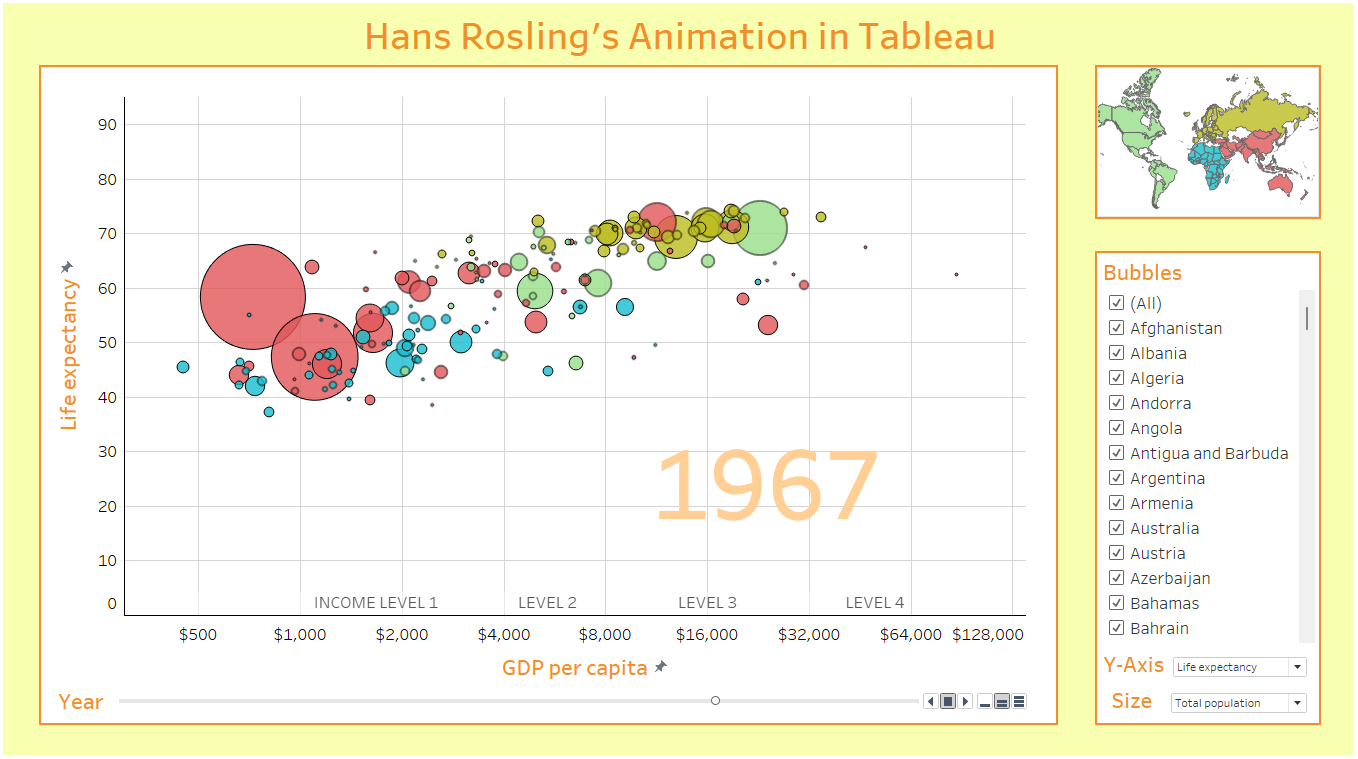

Layout of this report page (visuals, bound fields, positions):
{"tool":"tableau","page":{"name":"Hans Rosling's Animation","canvas":[1366,768],"ordinal":0},"visuals":[{"type":"text","box":[44,8,1282,62]},{"type":"worksheet","title":"Life expectancy VS GDP","mark":"Circle","rows":["Bubbles (copy)_1406530478045138950"],"cols":["Pivot Field Values"],"box":[44,70,1019,660]},{"type":"worksheet","title":"Map coloring","mark":"Multipolygon","box":[1100,70,226,154]},{"type":"filter","title":"Life expectancy VS GDP","param":"[federated.1n6s24e1p1lwww1bjd5fw102z7ai].[none:country (life_expectancy_years.cs","box":[1100,256,226,474]},{"type":"parameter","param":"[Parameters].[Choose Bubbles (copy)_1406530478044758020]","box":[1103,652,220,38]},{"type":"currpage","title":"Life expectancy VS GDP","box":[46,688,1013,38]},{"type":"parameter","param":"[Parameters].[Parameter 1]","box":[1101,688,222,39]}]}

Visuals, with their boxes in screenshot pixels (x1, y1, x2, y2), scaled from the page's 1366x768 canvas onto the 1358x759 screenshot:
text: x1=44 y1=8 x2=1318 y2=69
"Life expectancy VS GDP" worksheet (Circle marks): x1=44 y1=69 x2=1057 y2=721
"Map coloring" worksheet (Multipolygon marks): x1=1094 y1=69 x2=1318 y2=221
"Life expectancy VS GDP" filter: x1=1094 y1=253 x2=1318 y2=721
parameter: x1=1097 y1=644 x2=1315 y2=682
"Life expectancy VS GDP" currpage: x1=46 y1=680 x2=1053 y2=717
parameter: x1=1095 y1=680 x2=1315 y2=718
